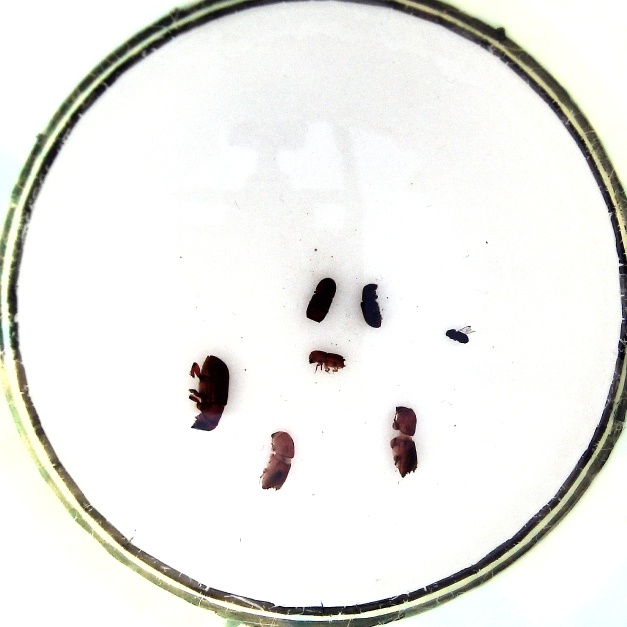acuminatus: (306, 348, 349, 375)
armandi: (360, 281, 383, 330)
boerner: (389, 404, 422, 480), (257, 430, 297, 490)
coleoptera: (444, 324, 473, 346)
leconte: (187, 353, 231, 433)
linnaeus: (305, 275, 338, 325)
